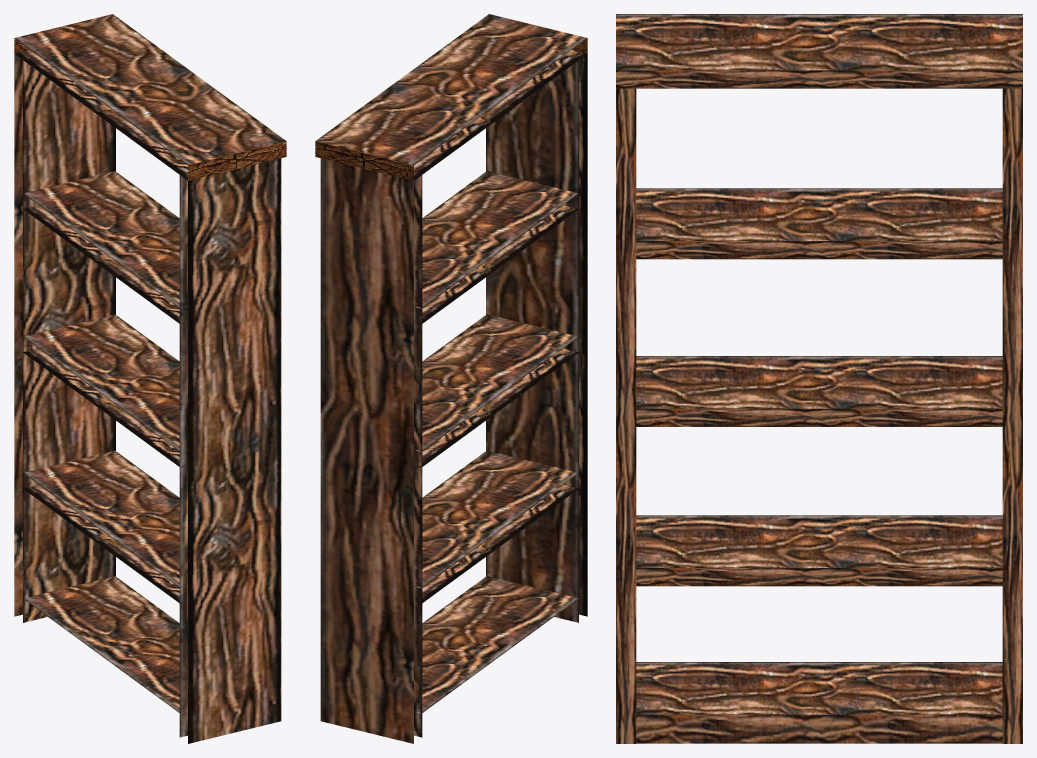
The model's file is INST_LT_SHELF.fbx.
The picture shows the model from 3 angles, left to right: view 1: azimuth 30°, elevation 25°; view 2: azimuth 150°, elevation 25°; view 3: azimuth 270°, elevation 25°; orthographic projection. The views are drawn at different scales.
Visible parts, largest first — view 1: INST_LT_SHELF; view 2: INST_LT_SHELF; view 3: INST_LT_SHELF.
Part boxes in pixels (x1=…): INST_LT_SHELF: x1=14, y1=14, x2=286, y2=743; INST_LT_SHELF: x1=315, y1=14, x2=587, y2=743; INST_LT_SHELF: x1=616, y1=14, x2=1022, y2=743.
Bounding box in the file's own units: 3110 × 17438 × 9500.
2 materials, 2 textured.
